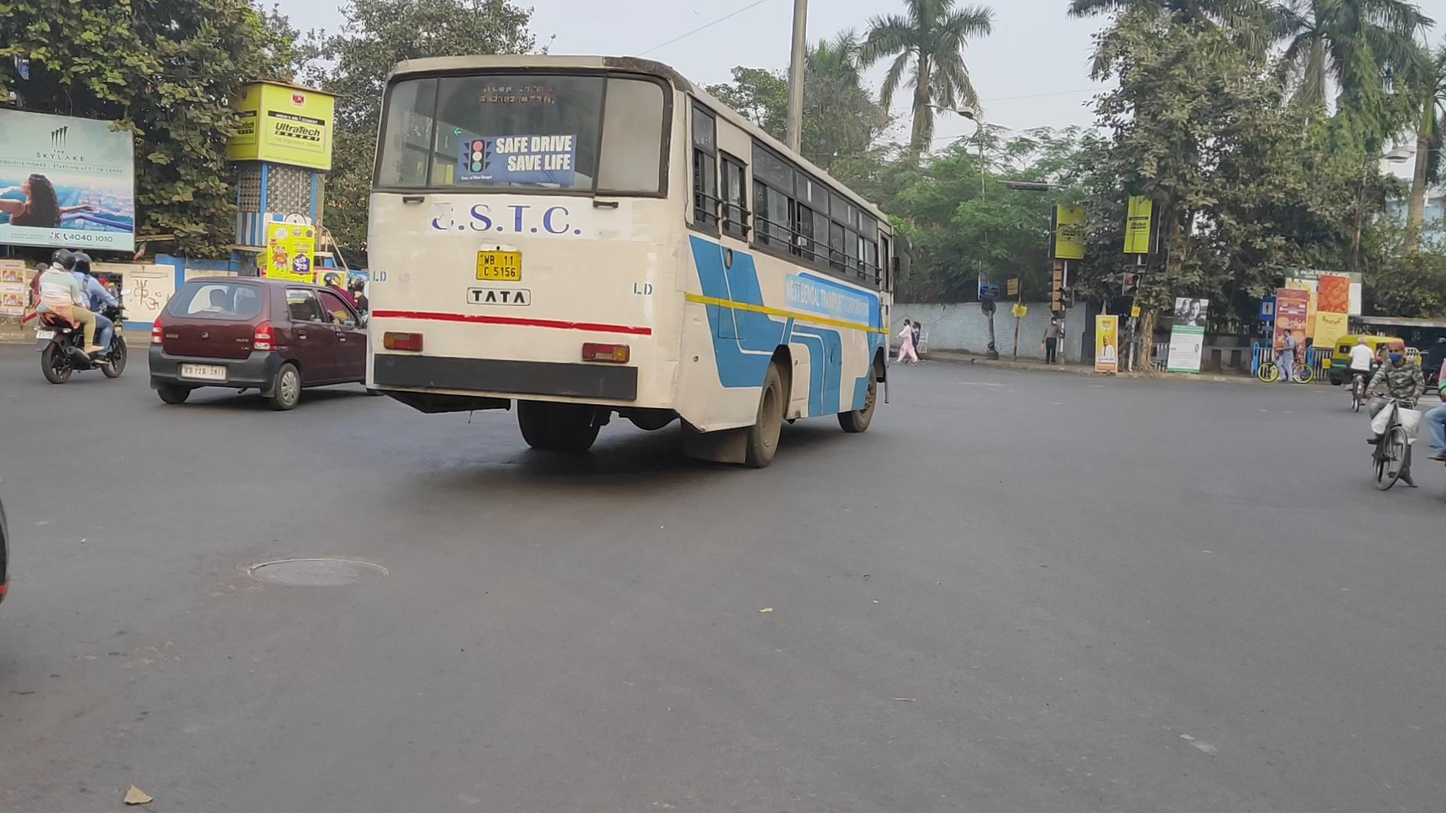Auto: (1329, 335, 1409, 387)
Bus: (368, 55, 893, 469)
bike: (34, 249, 127, 383), (1365, 341, 1423, 492), (1258, 329, 1313, 384), (1346, 337, 1374, 413)
car: (148, 275, 377, 410)
